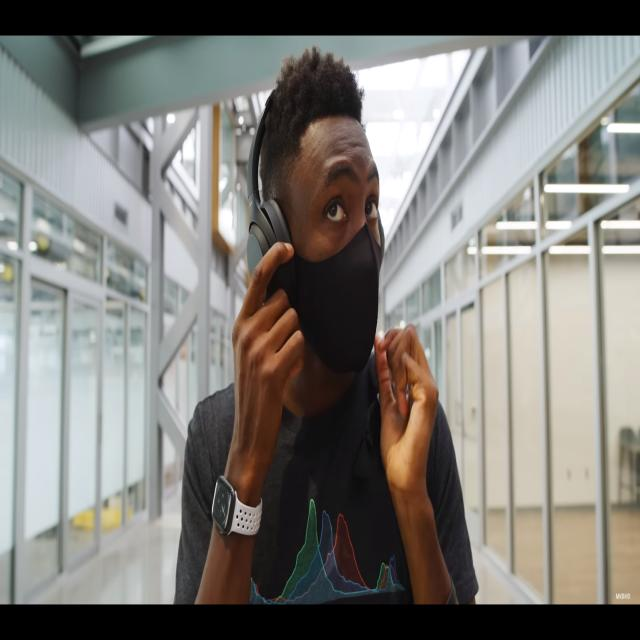Headphone: (244, 79, 298, 309)
